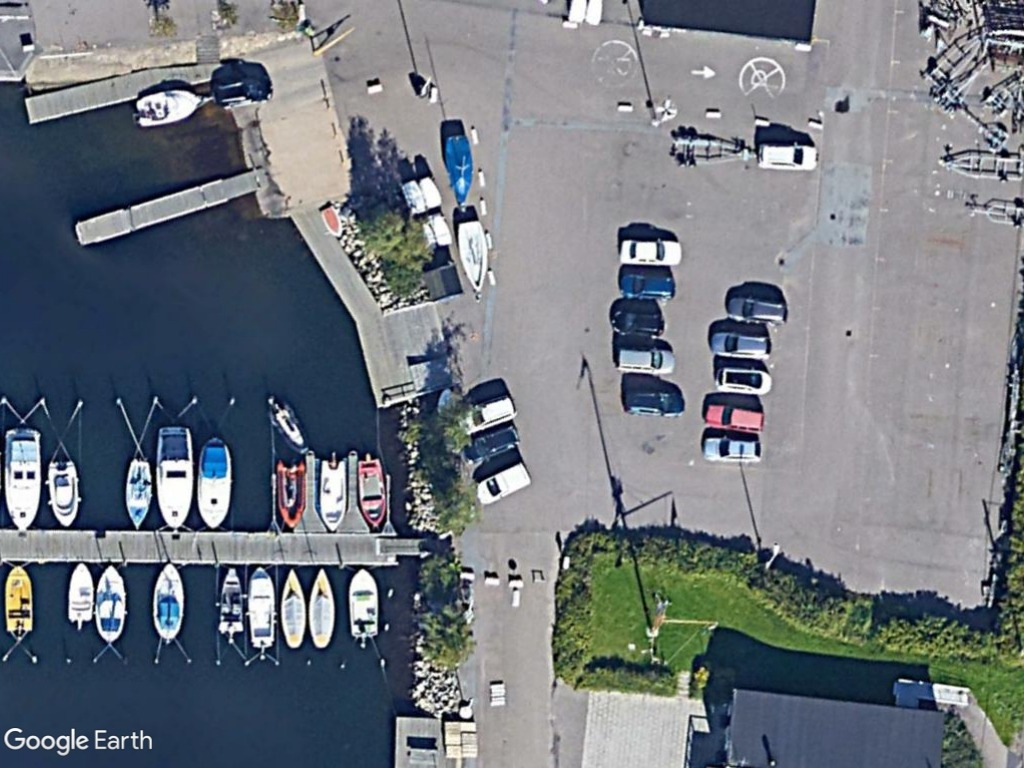boat: (1, 423, 48, 536), (153, 422, 194, 533), (195, 435, 237, 535), (243, 563, 281, 655), (149, 558, 187, 645), (92, 561, 129, 648), (276, 563, 311, 654), (131, 83, 204, 126), (45, 454, 84, 533), (352, 452, 390, 533), (316, 453, 352, 536), (454, 216, 491, 294), (306, 563, 338, 652), (272, 456, 309, 532), (344, 565, 380, 643), (121, 454, 156, 533), (443, 131, 476, 213), (214, 566, 249, 640), (1, 562, 35, 636), (63, 556, 96, 627)
car: (698, 429, 768, 466), (705, 326, 776, 362), (710, 360, 774, 399), (209, 74, 275, 111), (701, 401, 768, 437), (753, 139, 821, 174), (614, 235, 685, 268), (721, 294, 790, 327), (613, 342, 678, 377), (621, 384, 686, 419), (607, 305, 668, 342), (619, 269, 678, 303)
van: (471, 462, 533, 508)
